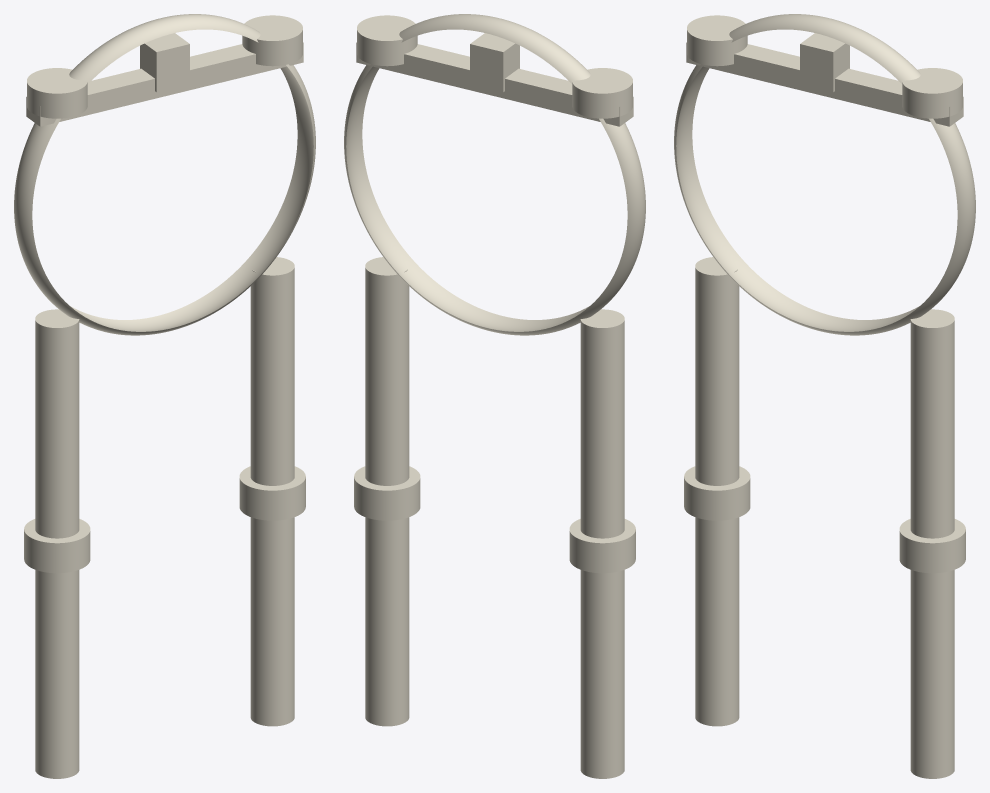
Rendered from act1-threshold.glb.
The picture shows the model from 3 angles, left to right: view 1: azimuth 30°, elevation 25°; view 2: azimuth 150°, elevation 25°; view 3: azimuth 330°, elevation 25°; orthographic projection.
Size of the model in its own units: 0.124 by 0.289 by 0.024.
